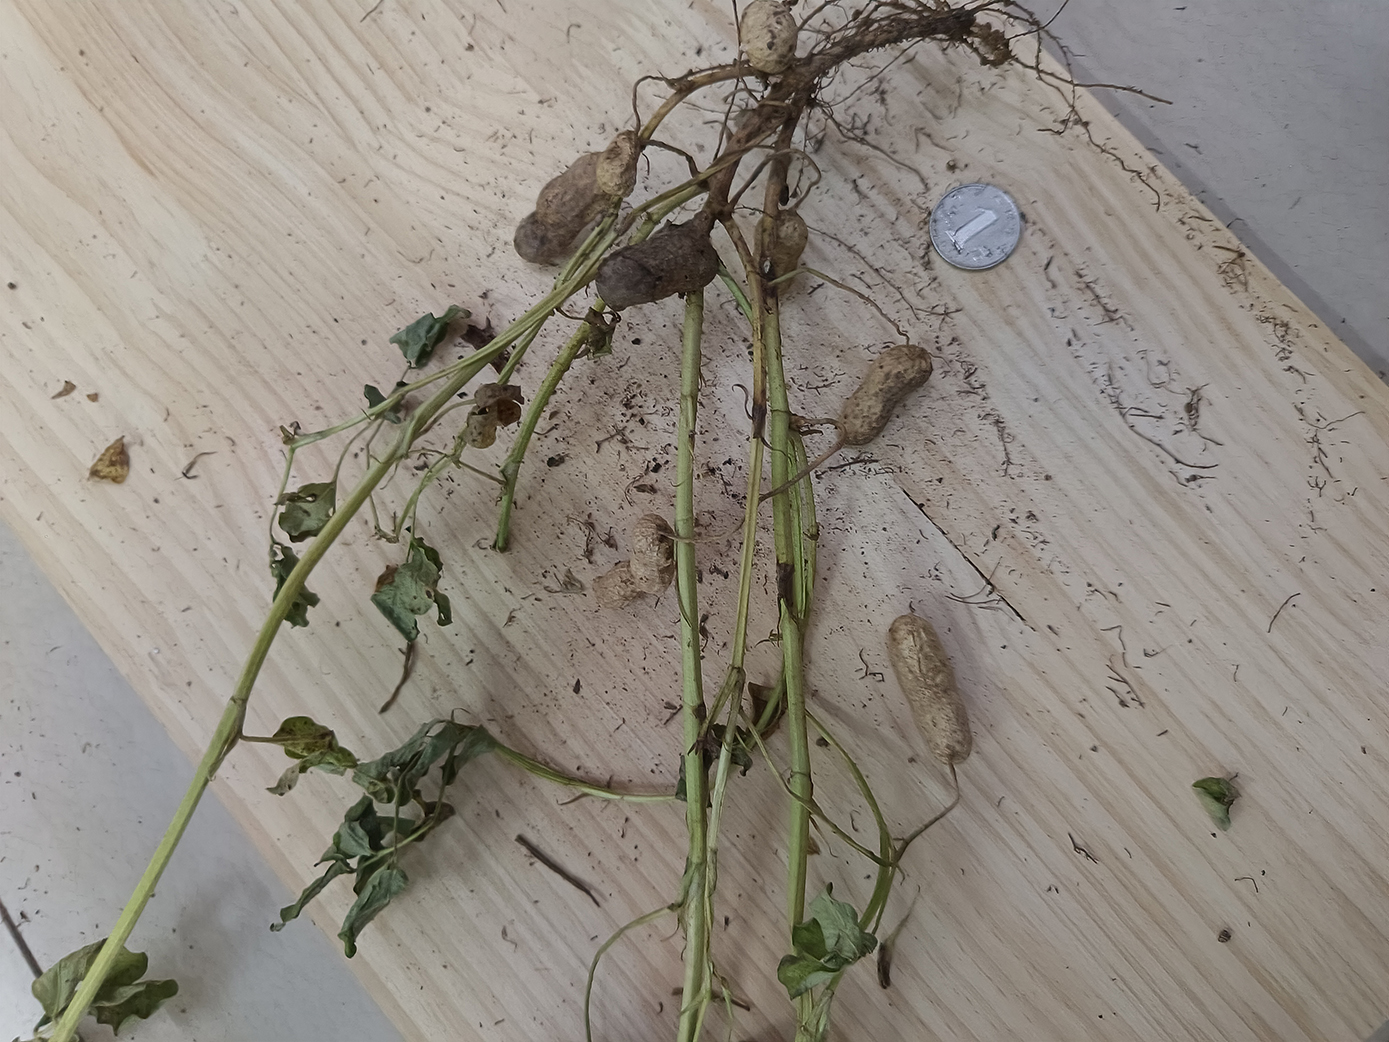h: (889, 615, 975, 766), (837, 343, 933, 449), (591, 510, 678, 613), (737, 1, 800, 76), (755, 212, 810, 283)
l: (516, 135, 640, 266), (594, 225, 722, 311)
